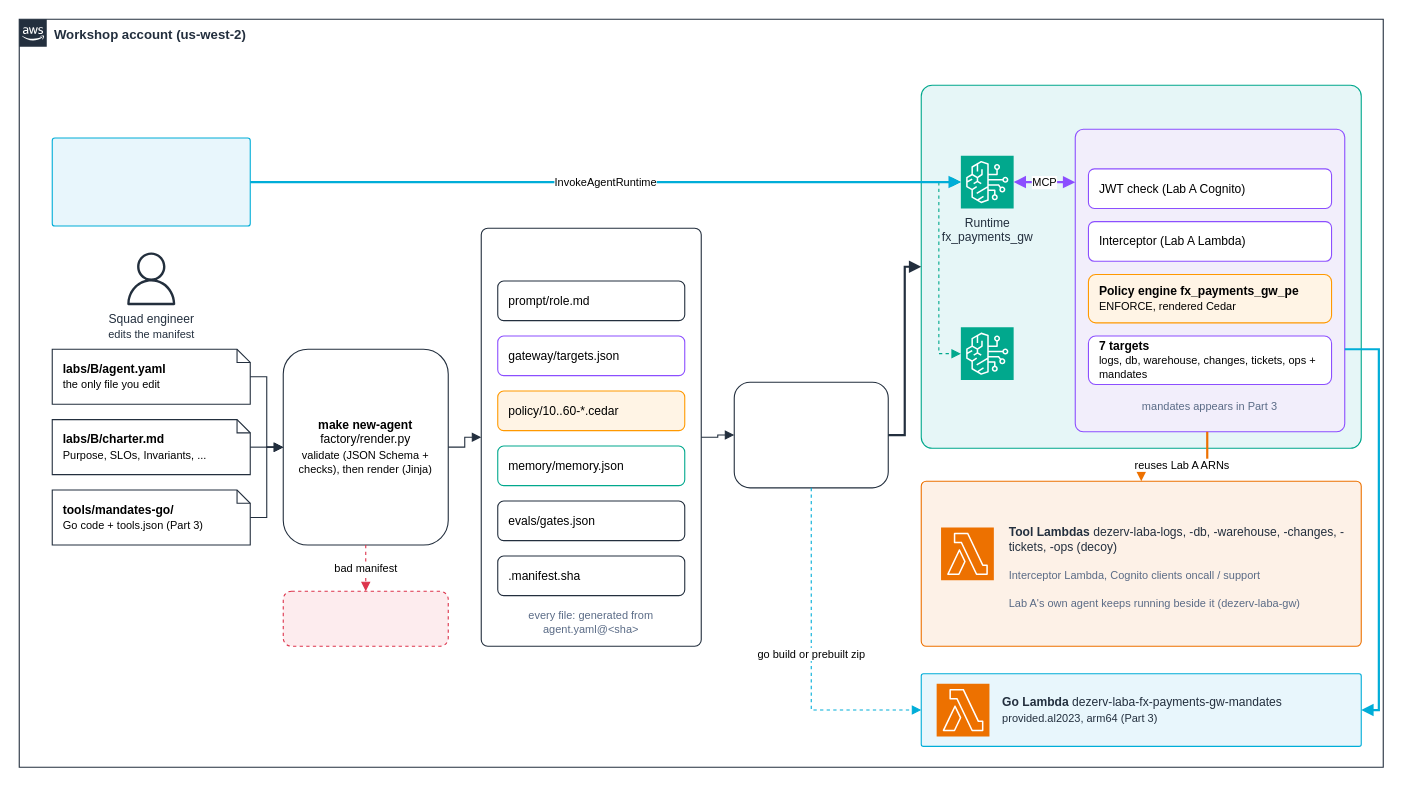
Some shapes in this 1408 by 787 pixel diagram are drawn without their labels. The box of each missing label's shape, as (x1, y1, x2, y2) in pixels:
agents/payments-gw/ generated, do not edit: (480, 227, 701, 646)
Factory agent (prefix fx-): (920, 84, 1361, 448)
Gateway fx-payments-gw: (1074, 128, 1345, 432)
go/alert-forwarder (Part 2) POST /alert, then InvokeAgentRuntime: (51, 137, 250, 226)
INVALID agent.yaml fails closed, names the field: (282, 590, 448, 646)
Lab A stack (shared, nothing redeployed): (920, 480, 1361, 646)
make deploy-agent NAME=payments-gw factory/deploy.py about 3 min, idempotent: (733, 381, 888, 488)
Memory fx_payments_gw: (960, 326, 1014, 380)
